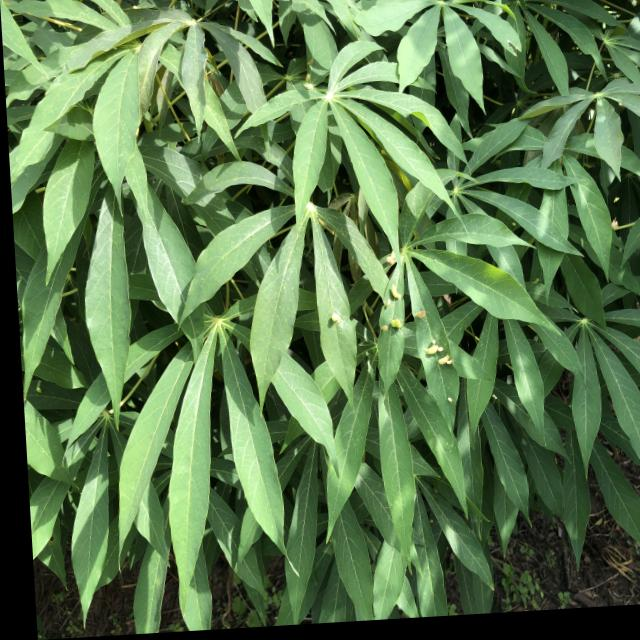Mosca: (420, 341, 468, 378), (373, 318, 406, 340), (384, 280, 410, 307), (321, 305, 349, 329), (405, 305, 438, 325), (437, 393, 464, 409), (376, 245, 393, 269), (586, 100, 602, 118)
